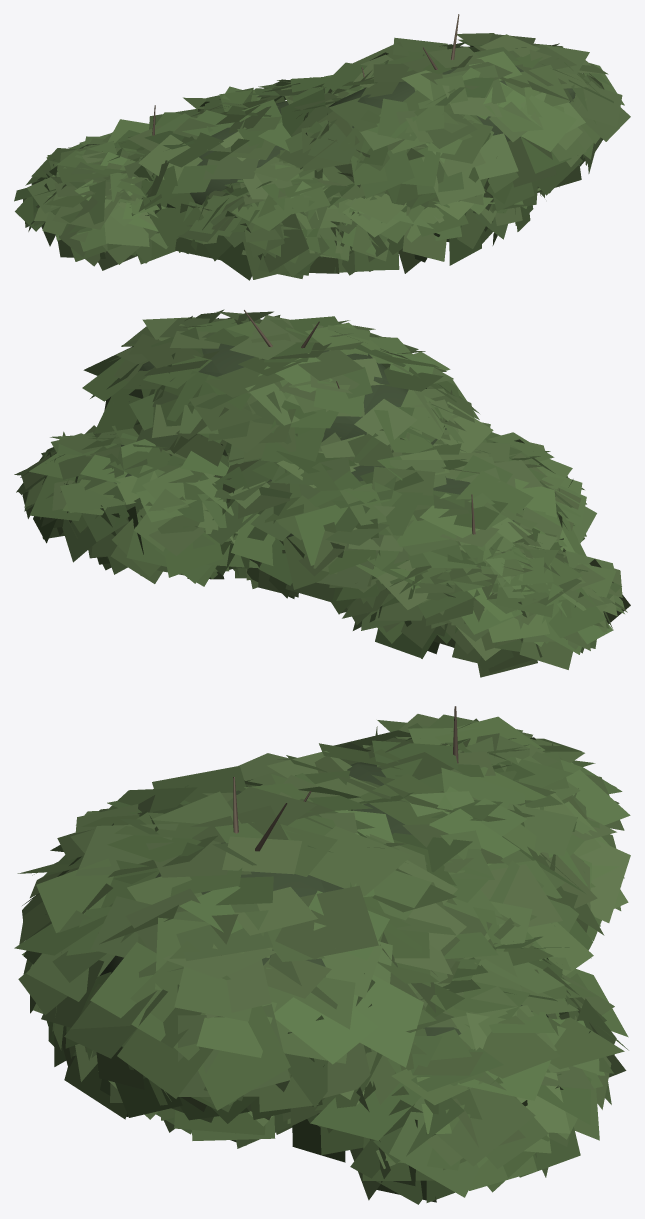
Rendered from vinemound_c.glb.
3 renders of one model, top to bottom at view 1: azimuth 30°, elevation 25°; view 2: azimuth 150°, elevation 25°; view 3: azimuth 270°, elevation 25°, orthographic. The views are drawn at different scales.
Visible parts, largest first — view 1: vinemound_c; view 2: vinemound_c; view 3: vinemound_c.
Boxes of the visible parts, bbox=[...] form: vinemound_c: bbox=[14, 14, 630, 280]; vinemound_c: bbox=[14, 309, 630, 677]; vinemound_c: bbox=[14, 706, 630, 1204].
Bounding box in the file's own units: 4.75 × 1.67 × 2.82.
